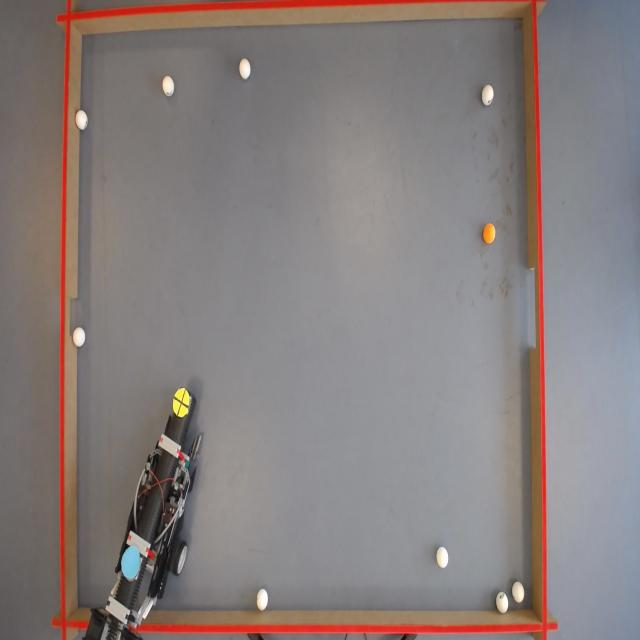orange: (484, 224, 498, 246)
robot: (90, 383, 208, 640)
robot-front: (173, 386, 193, 419)
robot-rear: (119, 546, 141, 581)
white: (437, 546, 451, 570), (255, 589, 269, 612), (239, 58, 253, 80), (162, 77, 176, 98), (75, 109, 88, 131), (482, 86, 496, 106), (496, 593, 509, 614), (514, 582, 526, 604), (73, 327, 86, 347)
